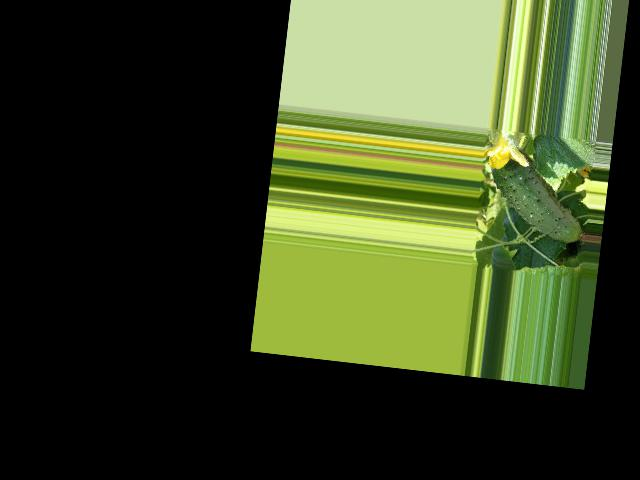cucumber: (484, 146, 595, 245)
